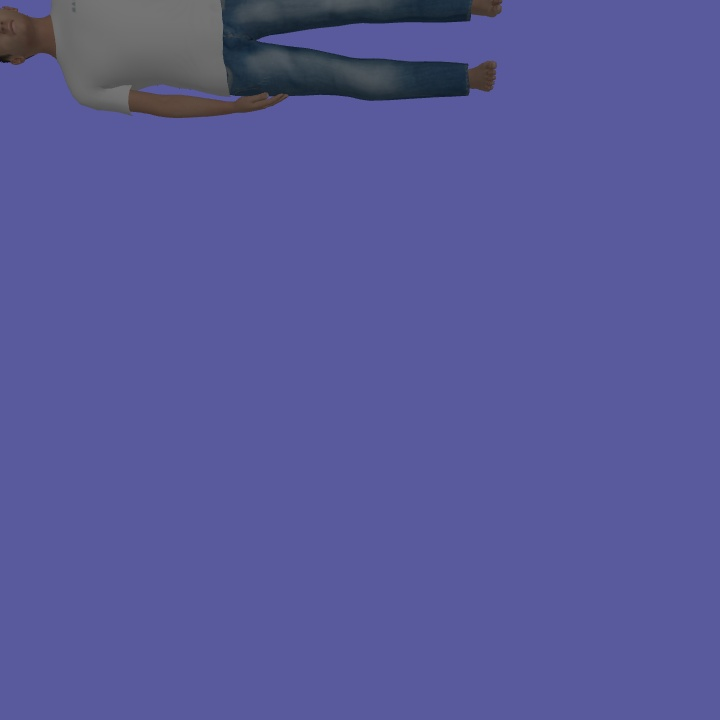victim: (1, 1, 505, 125)
